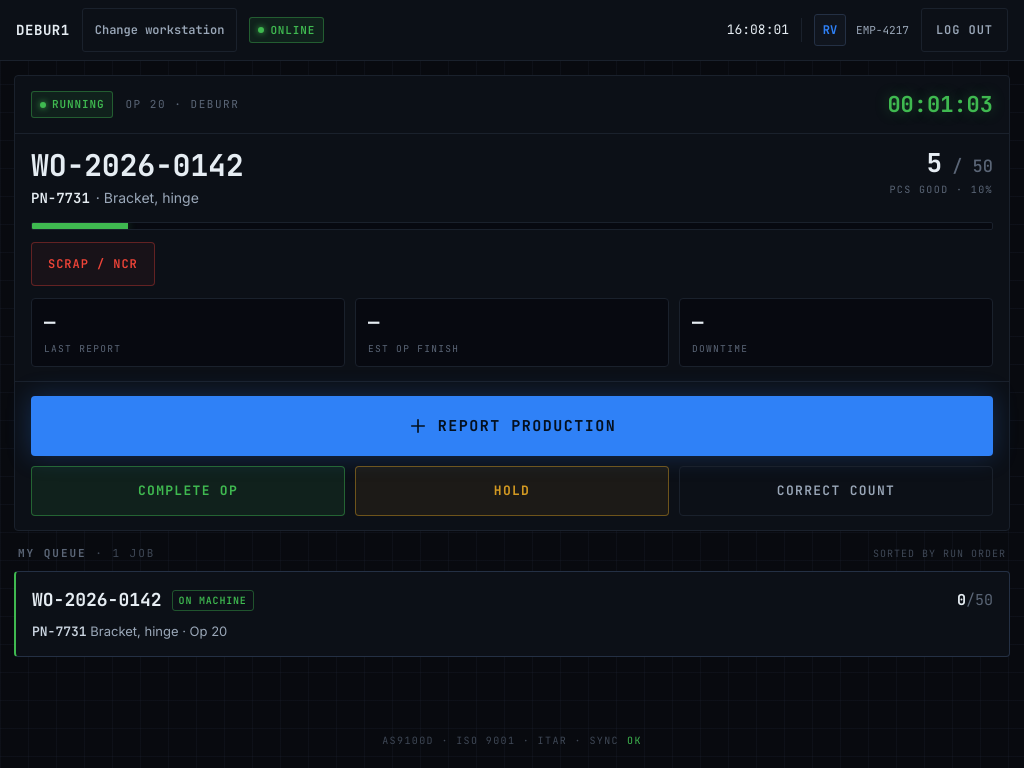
Test: OperatorKiosk › quotes the ncr_number from the response in the success toast
Click the button with test id "kiosk-active-scrap": point(93, 264) [31,242,155,286]
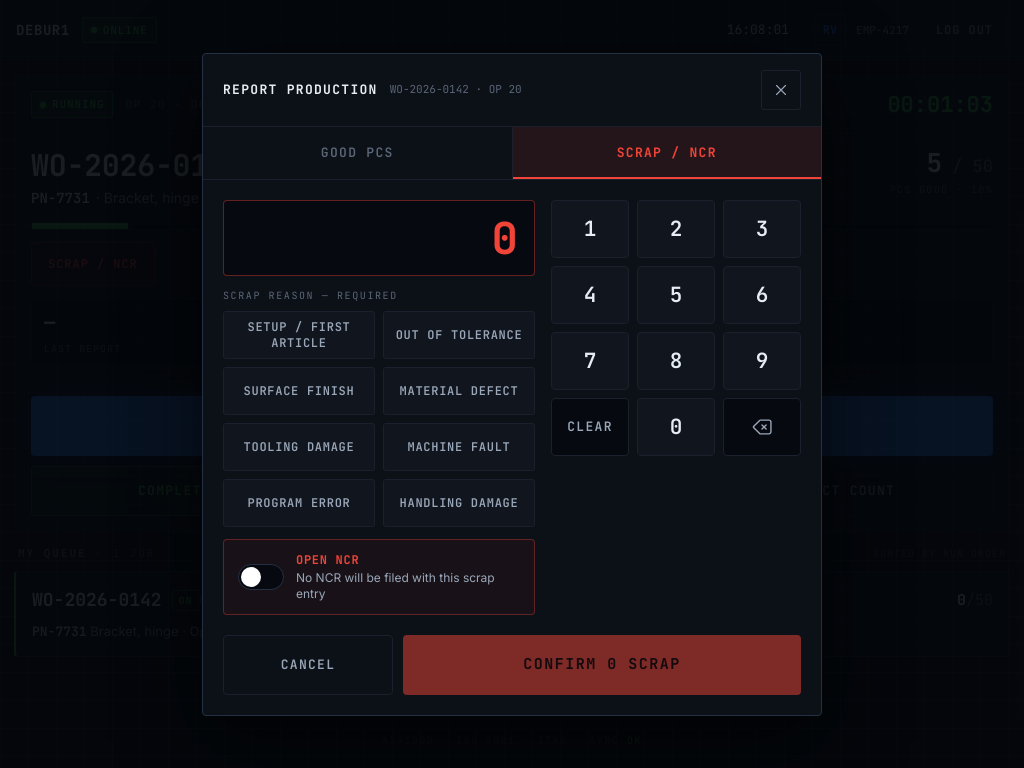
Click the button with test id "kiosk-key-2": point(676, 228) [637,200,715,258]
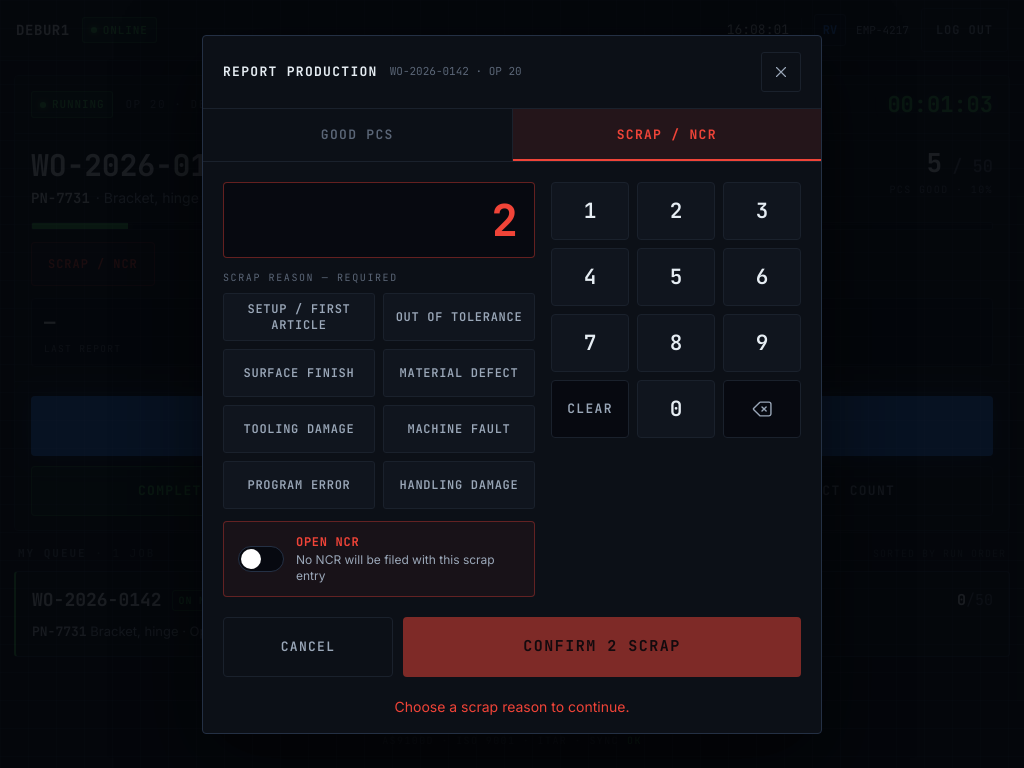
Click the button "Material defect": point(459, 372) [383,348,535,396]
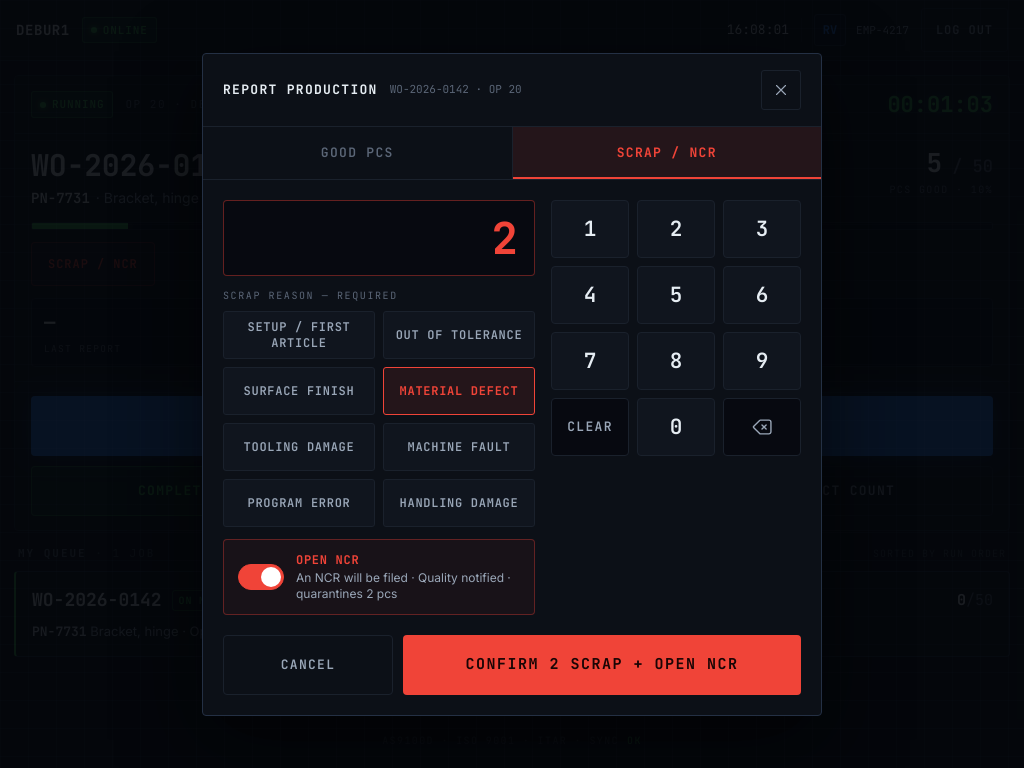
Click the button with test id "kiosk-qty-confirm": point(602, 664) [403,634,801,694]
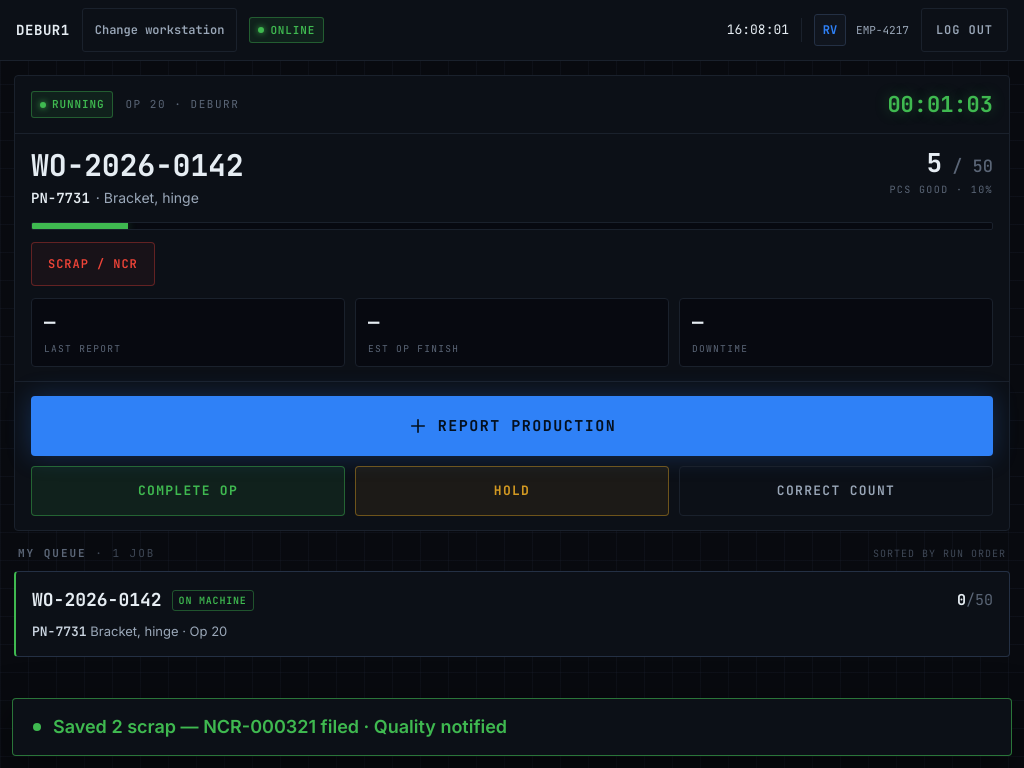
Now the text "Saved 2 scrap — NCR-000321 filed · Quality notified" is shown, box [53,713,507,741]
